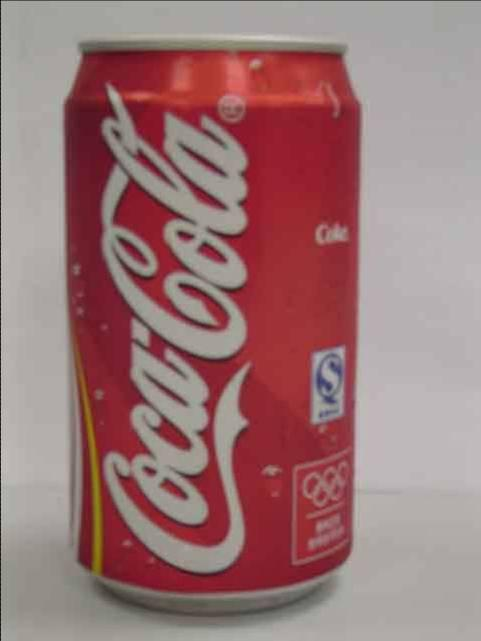metal: (65, 38, 360, 612)
